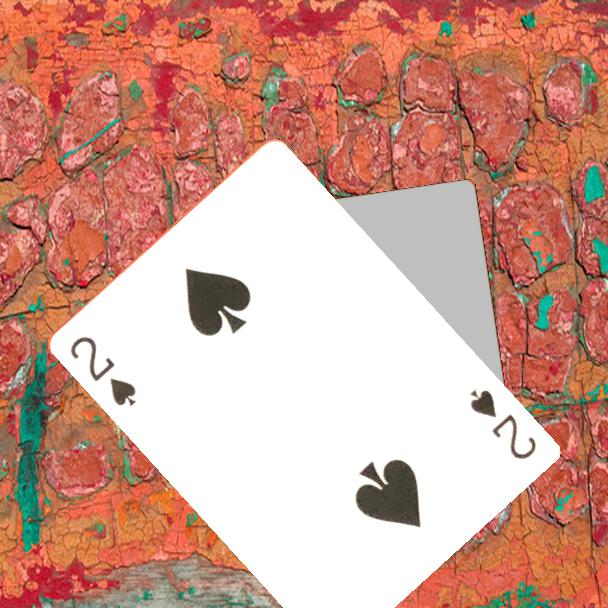s02: (465, 385, 539, 463), (65, 332, 139, 409)
